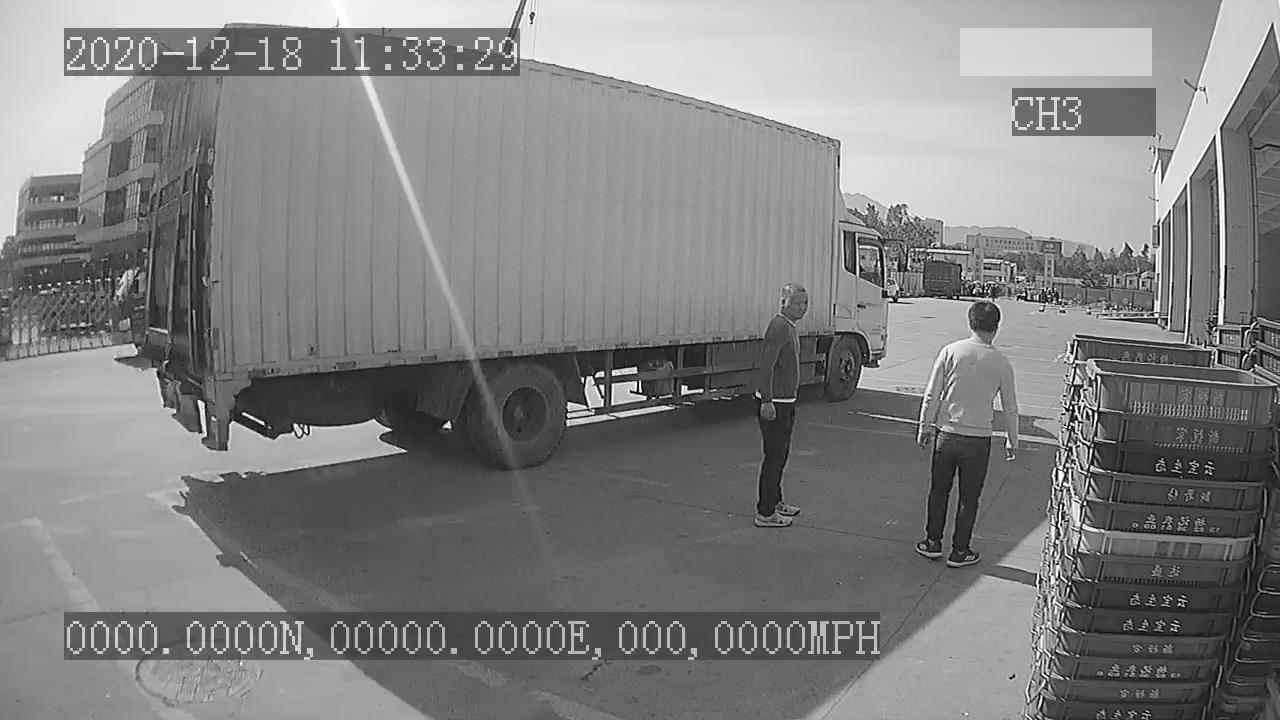person: (915, 297, 1019, 573)
